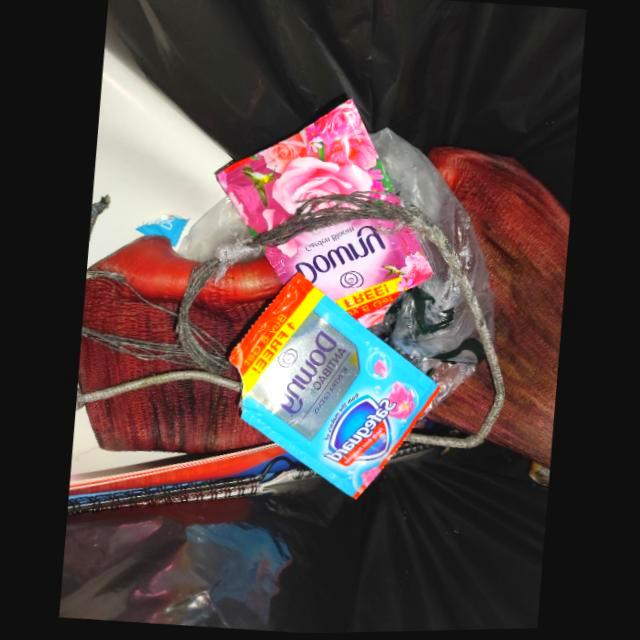cardboard: (86, 7, 229, 268), (66, 406, 306, 517)
plastic_sachet: (215, 99, 433, 328), (229, 271, 440, 496)
